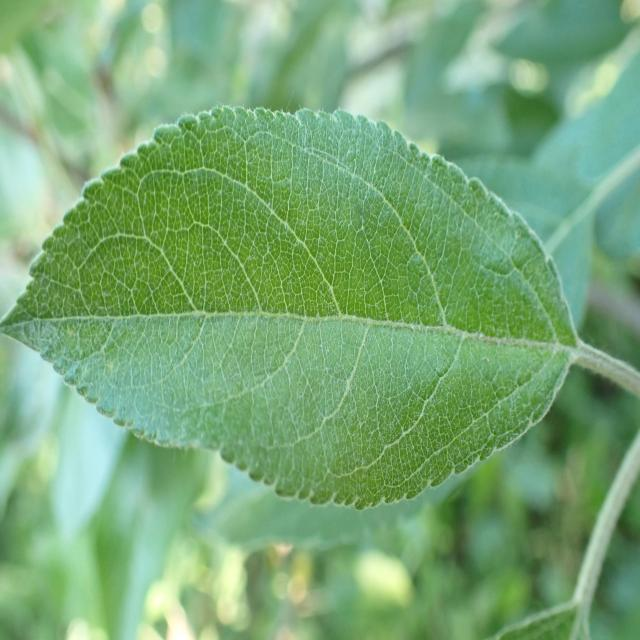healthy: (3, 104, 578, 512)
